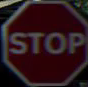Stop: (3, 1, 85, 81)
